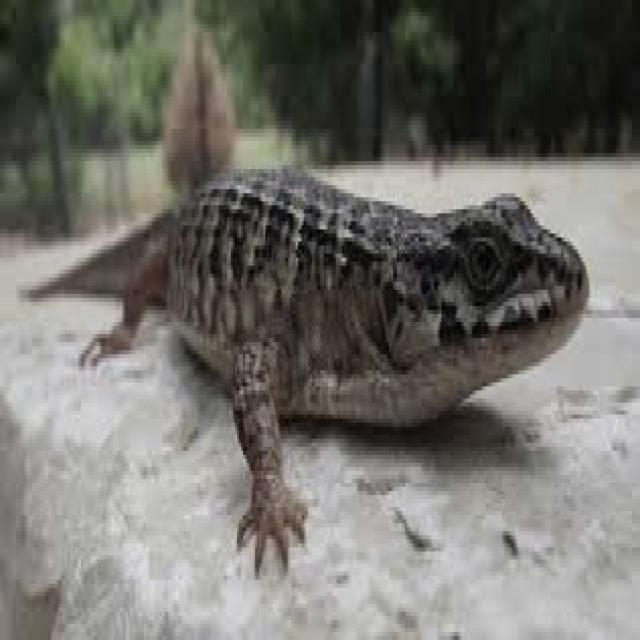lizard: (24, 169, 587, 559)
